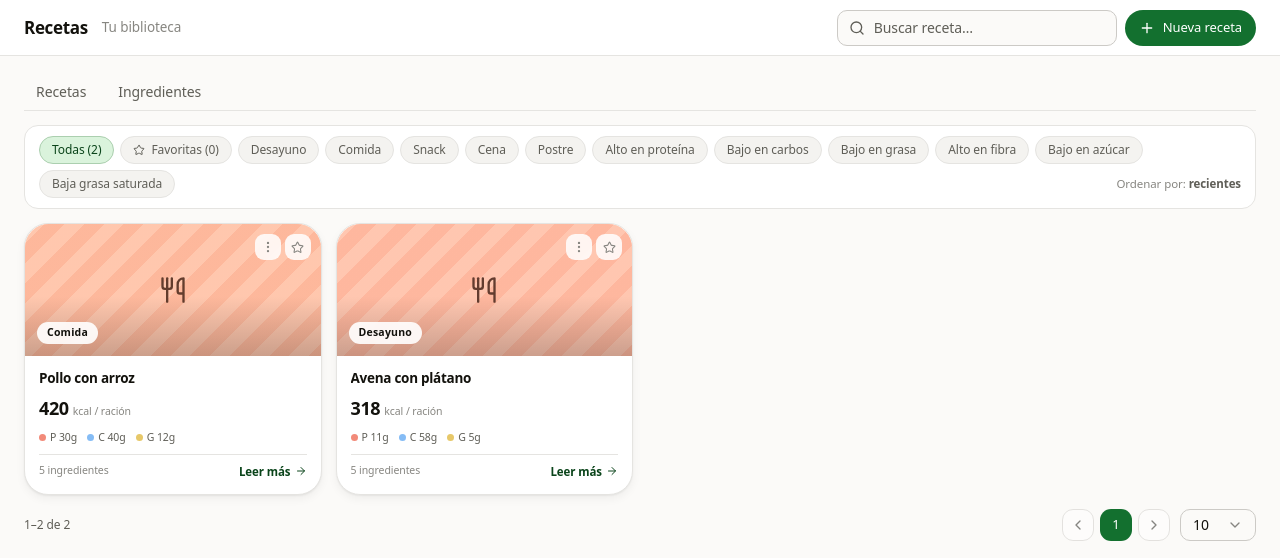
RecetasPage › narrows the list with a nutrition-goal chip
Click the button "Alto en fibra": [982, 150] box [935,136,1029,164]
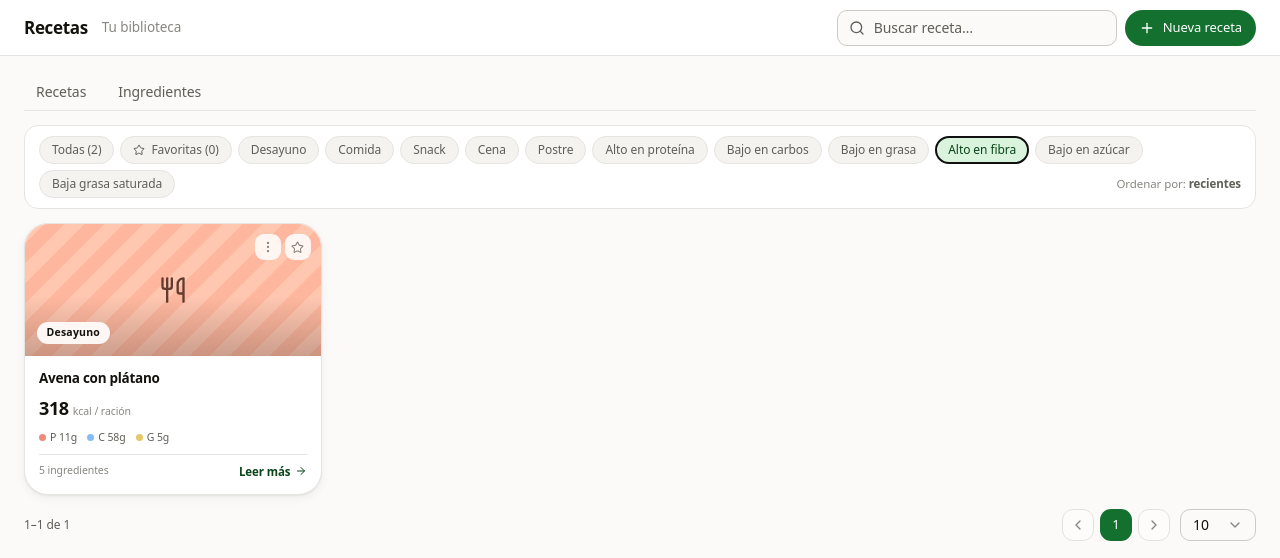
Now the link "Pollo con arroz" is gone
